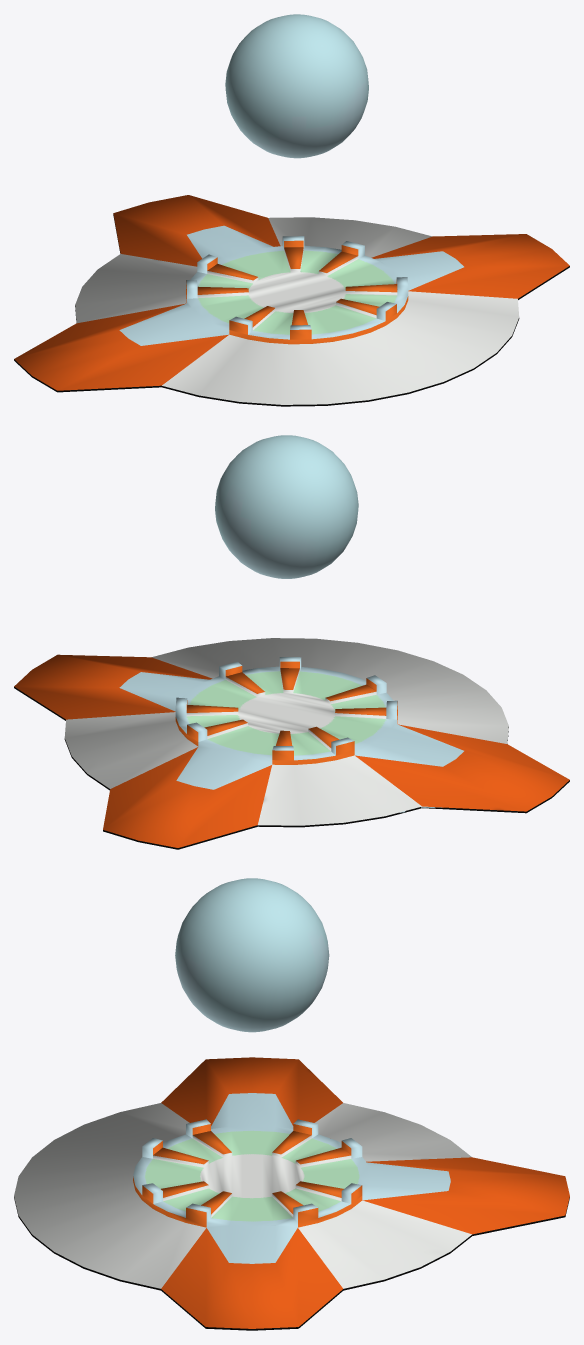
3 views of the same model, one above another, from view 1: azimuth 30°, elevation 25°; view 2: azimuth 150°, elevation 25°; view 3: azimuth 270°, elevation 25° (orthographic). The views are drawn at different scales.
Parts seen in each view (by area): view 1: Cylinder; view 2: Cylinder; view 3: Cylinder.
Part boxes in pixels (x1,y1,x2,y2): Cylinder: [14, 14, 569, 406]; Cylinder: [14, 435, 569, 849]; Cylinder: [14, 878, 569, 1330].
Bounding box in the file's own units: 32.99 × 17.68 × 28.54.
1 material, 1 textured.
